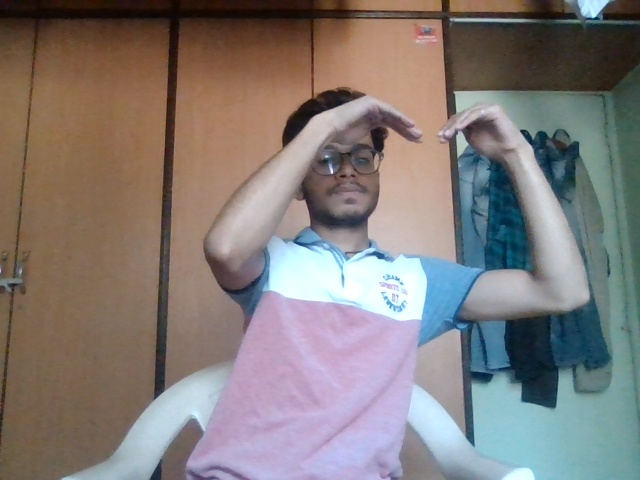we: (278, 83, 516, 204)
